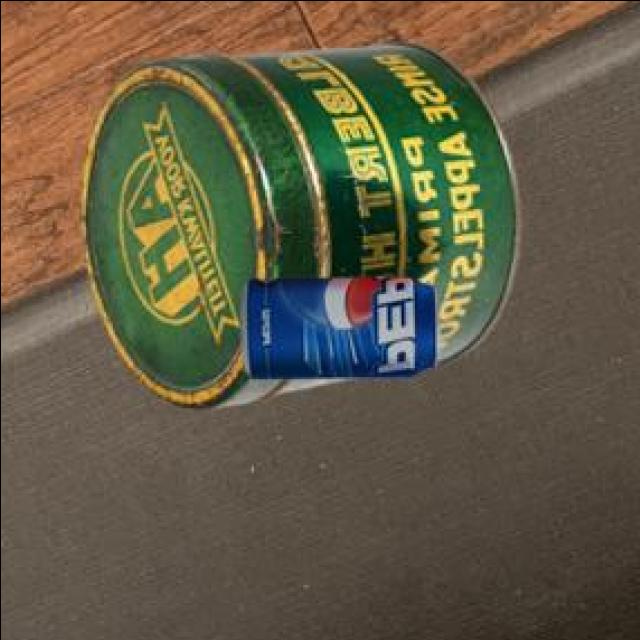logam: (77, 46, 516, 411), (238, 281, 435, 382)
